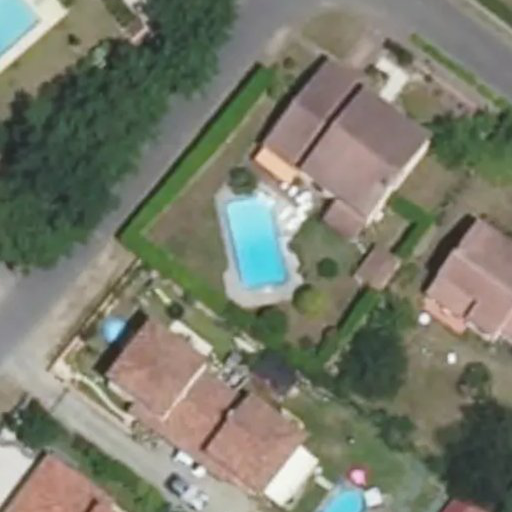pool: (222, 199, 295, 280)
